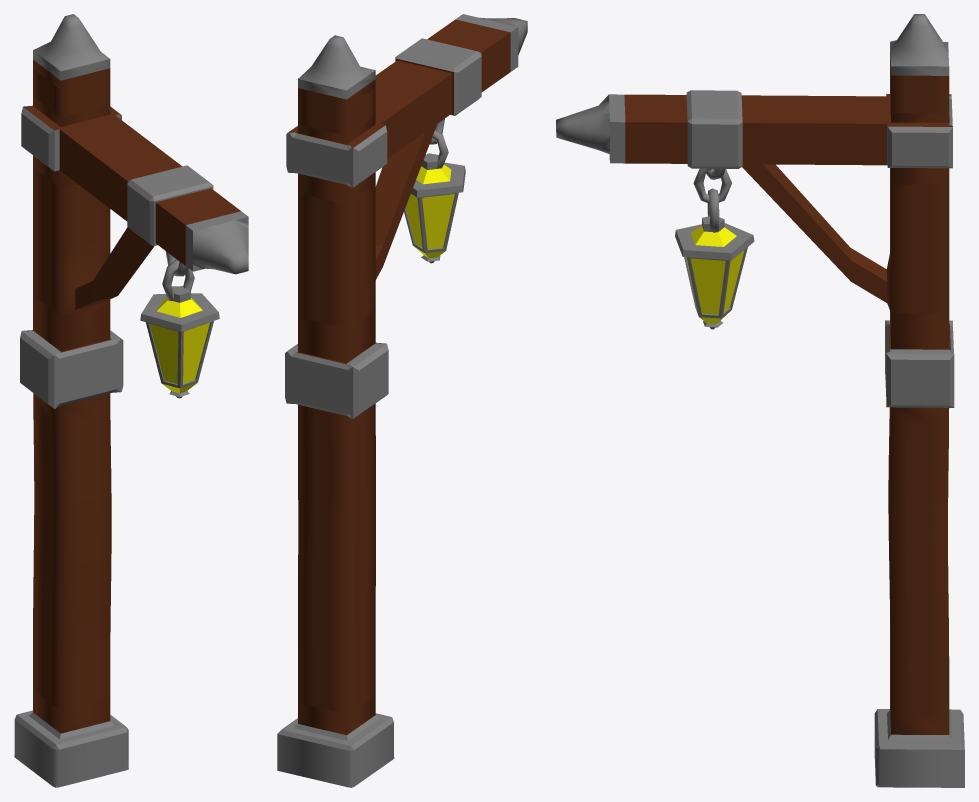
File: light.FBX
The picture shows the model from 3 angles, left to right: view 1: azimuth 30°, elevation 25°; view 2: azimuth 150°, elevation 25°; view 3: azimuth 270°, elevation 25°; orthographic projection. The views are drawn at different scales.
Parts seen in each view (by area): view 1: Cylinder001, Cylinder003, Torus003; view 2: Cylinder001, Cylinder003; view 3: Cylinder001, Cylinder003.
Boxes of the visible parts, bbox=[...] form: Cylinder001: bbox=[14, 14, 248, 787]; Cylinder003: bbox=[140, 286, 219, 398]; Torus003: bbox=[162, 259, 194, 300]; Cylinder001: bbox=[277, 14, 527, 787]; Cylinder003: bbox=[404, 153, 465, 263]; Cylinder001: bbox=[556, 14, 964, 787]; Cylinder003: bbox=[675, 216, 754, 329].
Size of the model in its own units: 20.43 by 188 by 92.44.
